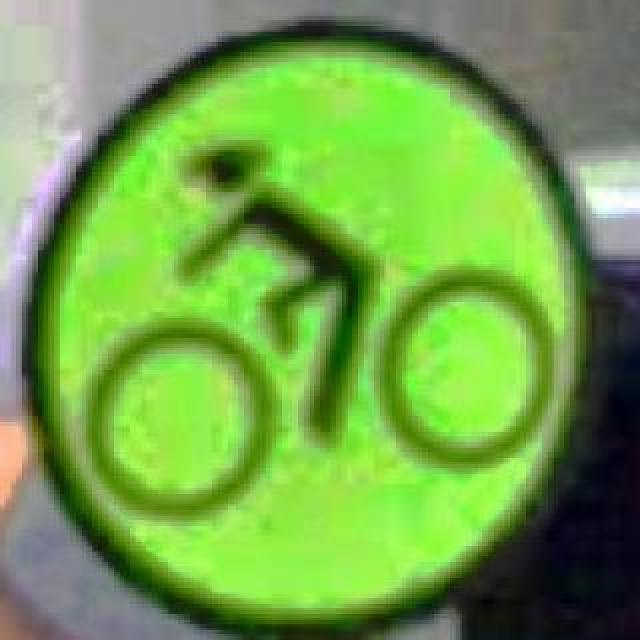bike lane: (16, 16, 596, 636)
